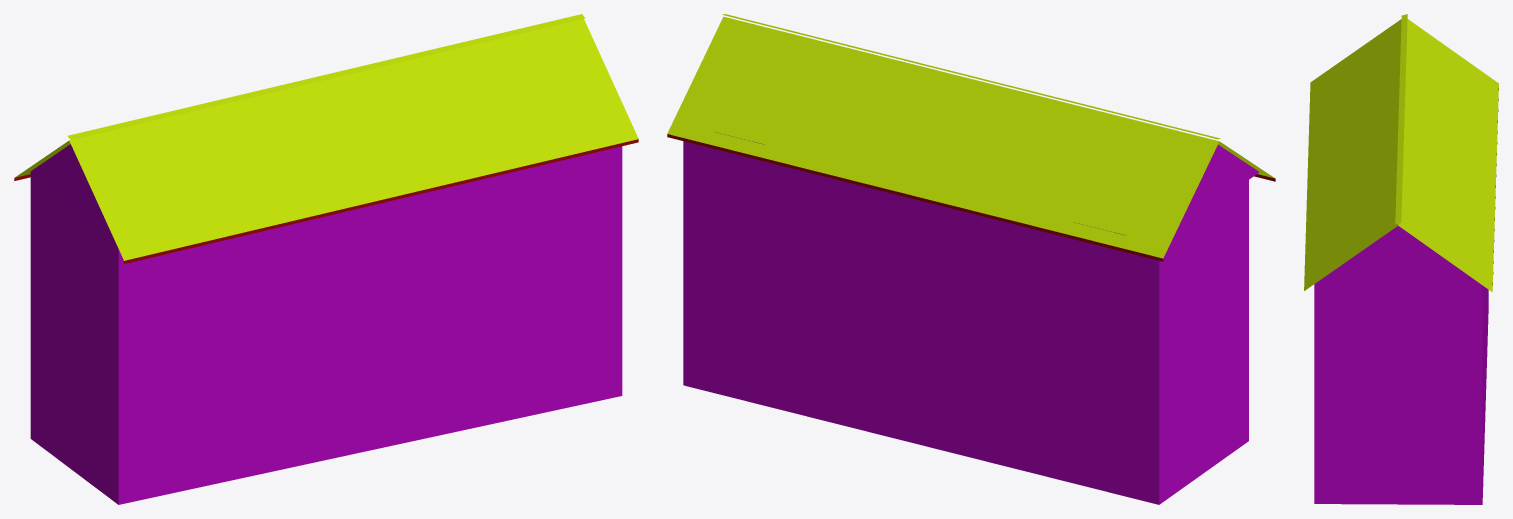
The model's file is bgj_305.glb.
The picture shows the model from 3 angles, left to right: view 1: azimuth 30°, elevation 25°; view 2: azimuth 150°, elevation 25°; view 3: azimuth 270°, elevation 25°; orthographic projection. The views are drawn at different scales.
Visible parts, largest first — view 1: bgj_305; view 2: bgj_305; view 3: bgj_305.
Boxes of the visible parts, x1,y1,x2,y2 form: bgj_305: (14, 14, 638, 504); bgj_305: (667, 14, 1275, 504); bgj_305: (1304, 14, 1498, 504).
Size of the model in its own units: 19.78 by 12.56 by 7.76.
